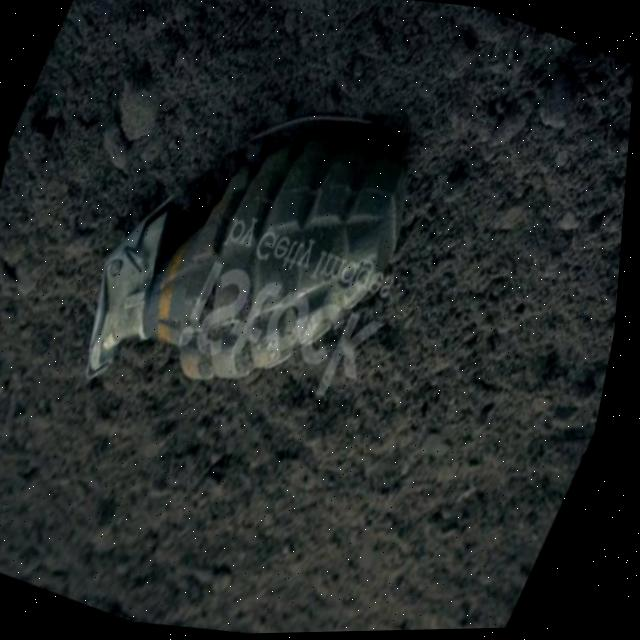grenade: (54, 35, 467, 476)
